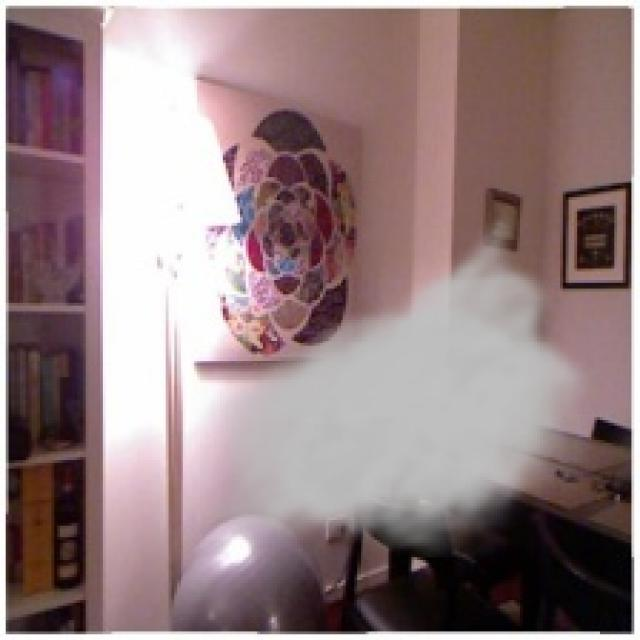smoke: (191, 197, 600, 557)
